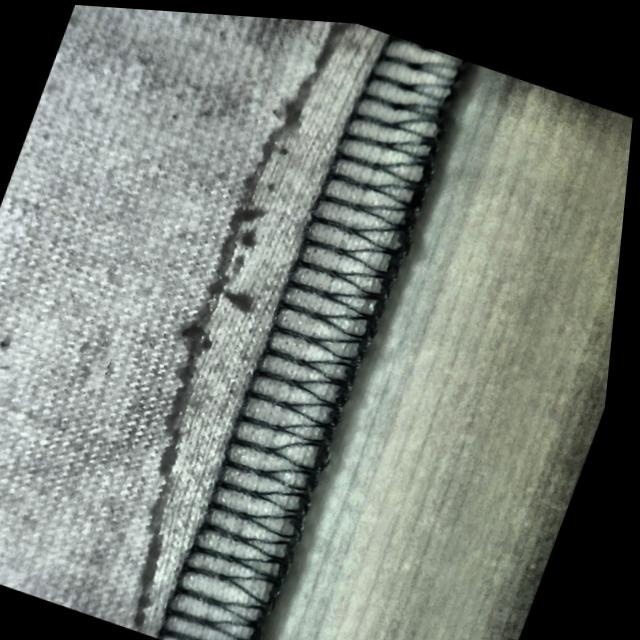seam: (18, 3, 510, 639)
